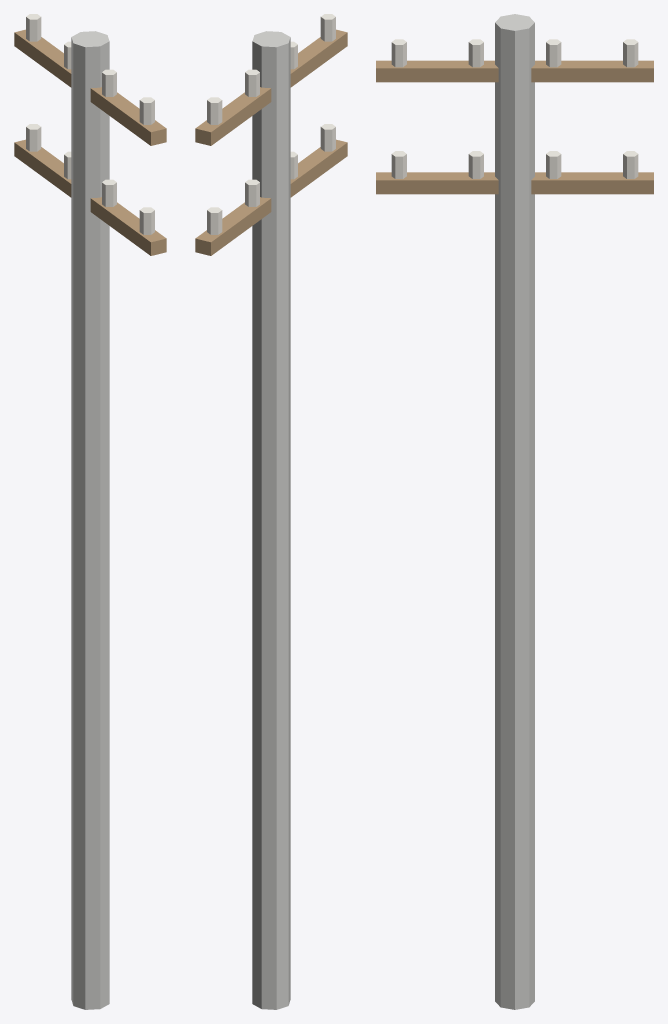
The model's file is Prop_UtilityPole.fbx.
3 views of the same model, side by side, from view 1: azimuth 30°, elevation 25°; view 2: azimuth 150°, elevation 25°; view 3: azimuth 270°, elevation 25° (orthographic).
Visible parts, largest first — view 1: Prop_UtilityPole; view 2: Prop_UtilityPole; view 3: Prop_UtilityPole.
Part boxes in pixels (<box>): Prop_UtilityPole: <box>14,14,166,1009</box>; Prop_UtilityPole: <box>195,14,347,1009</box>; Prop_UtilityPole: <box>376,14,653,1009</box>.
Size of the model in its own units: 0.26 by 7 by 1.8.
